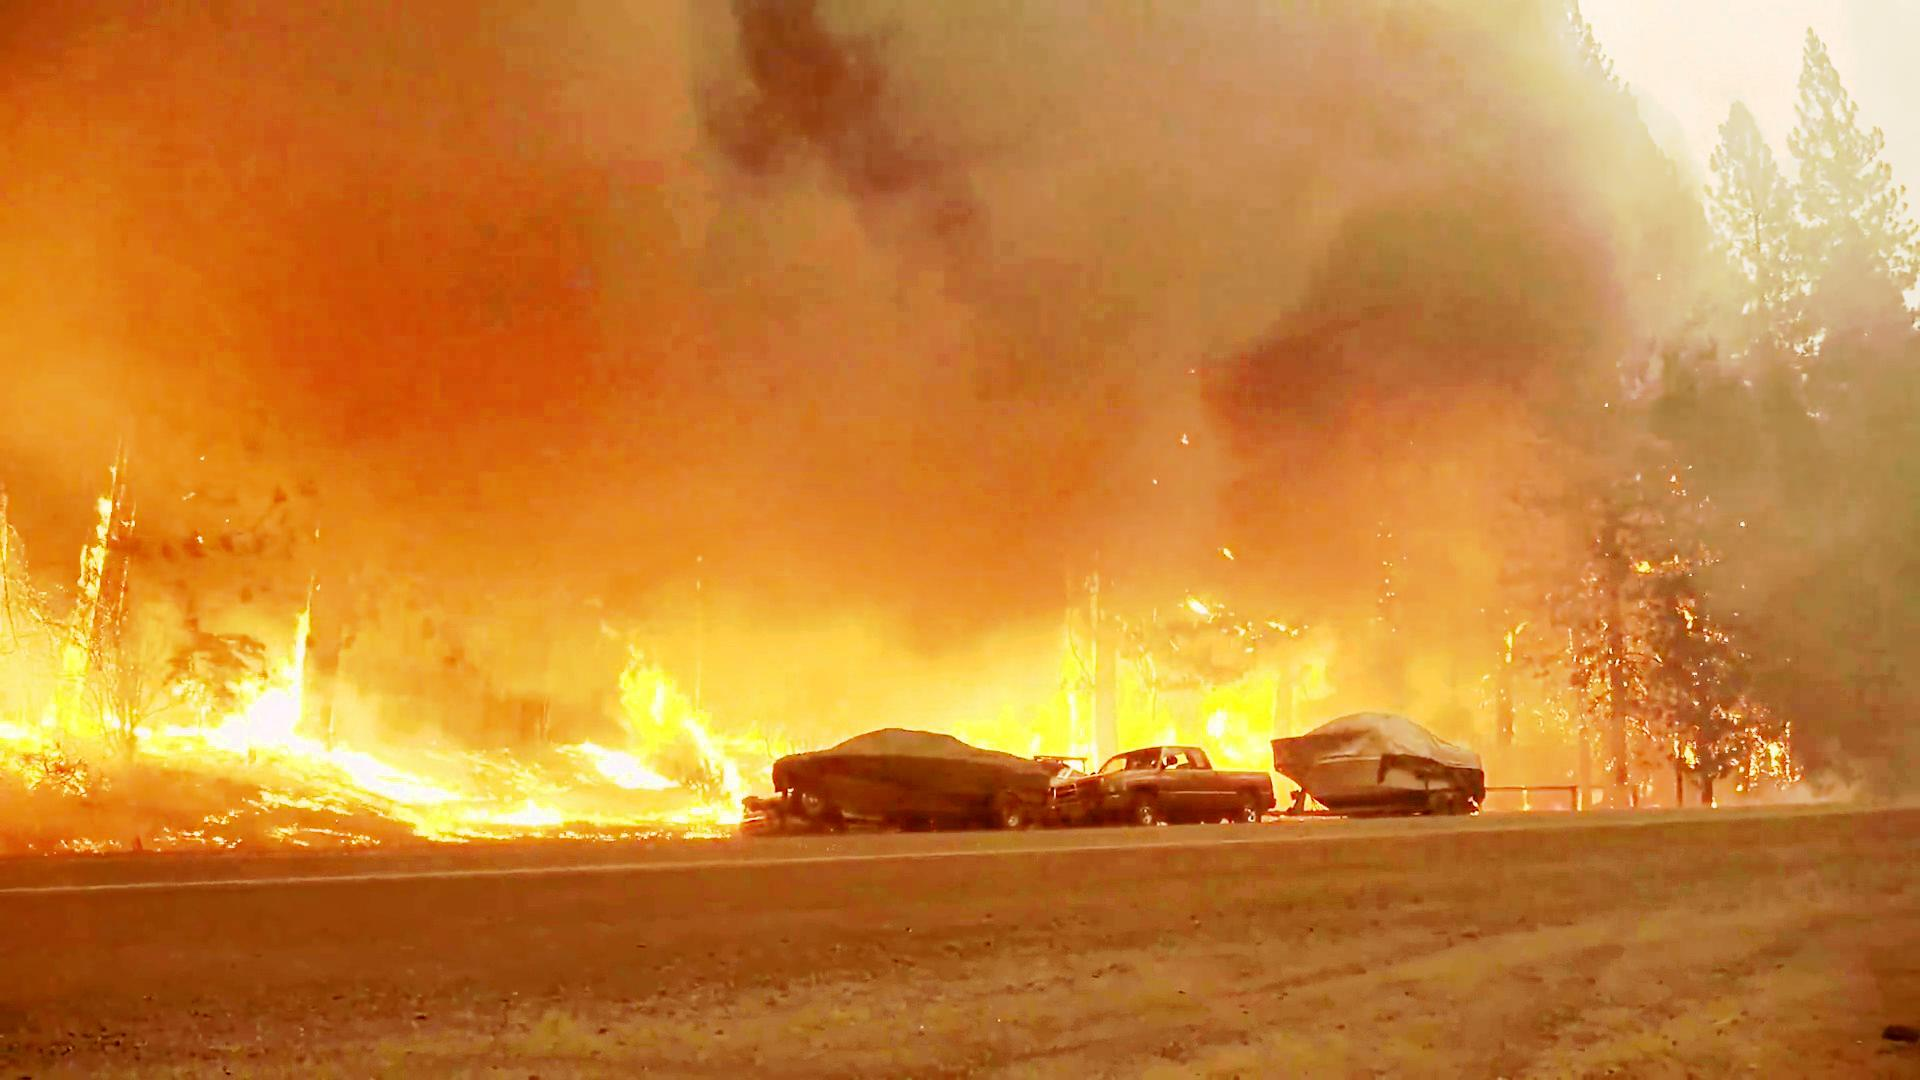fire: (367, 638, 785, 860), (0, 618, 336, 802), (965, 628, 1320, 766)
smoke: (0, 0, 833, 483), (907, 0, 1488, 483)
